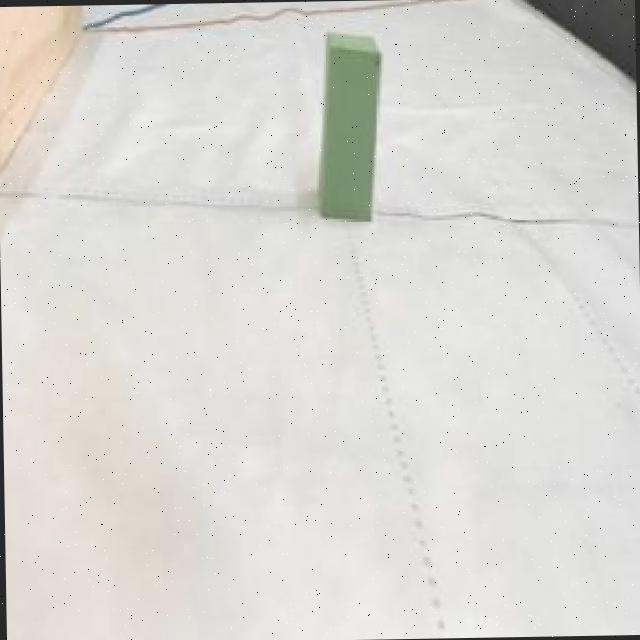greenbox: (316, 35, 379, 220)
